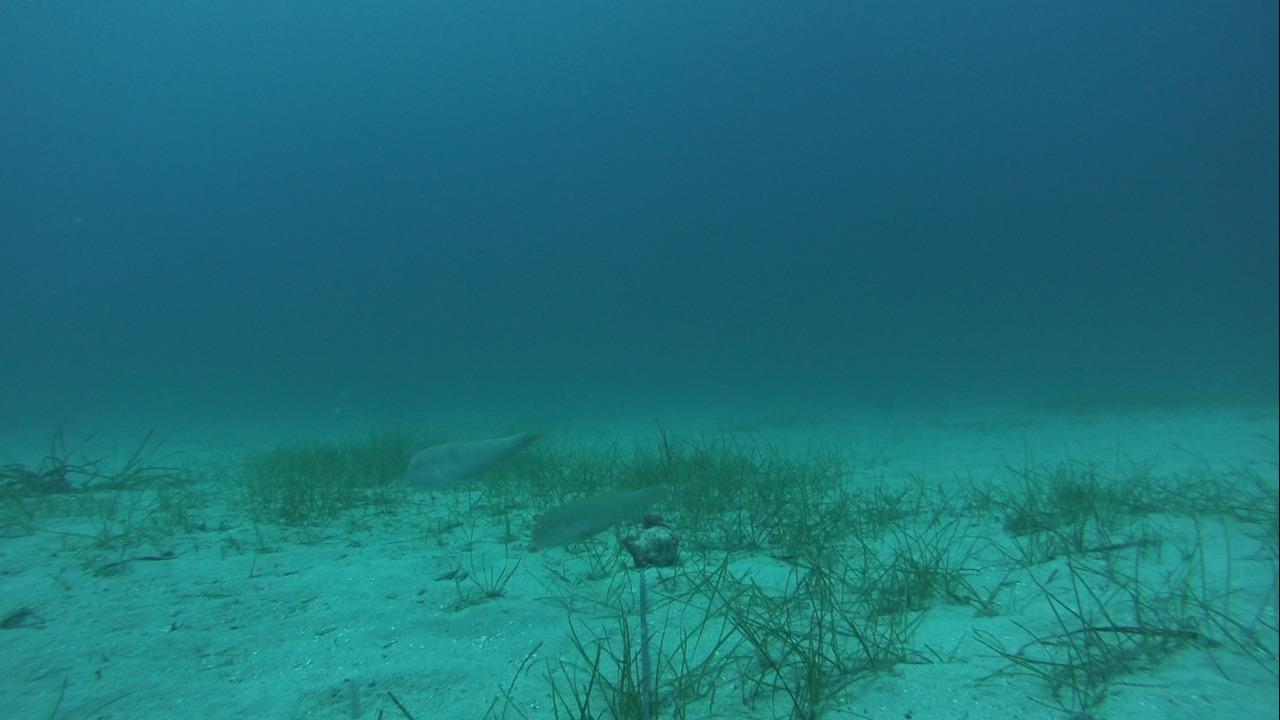raor: (525, 480, 682, 556), (398, 423, 541, 490)
